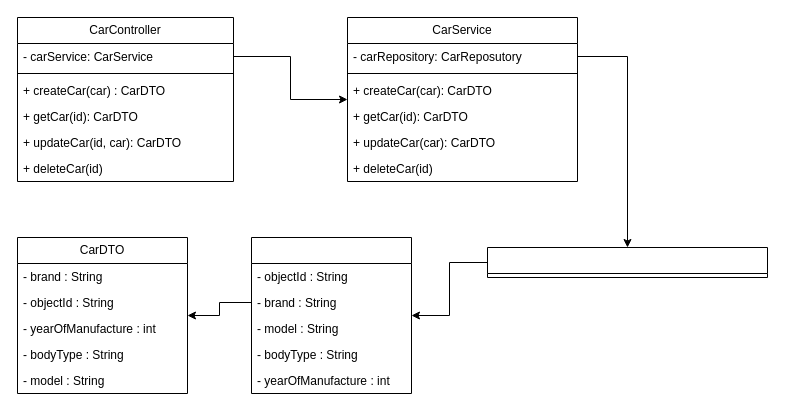
This 785x414 diagram has some shape labels left out. Each missing label, with the box of its shape:
Car: (250, 236, 412, 394)
CarRepository : JPARepository<Car, String>: (486, 246, 768, 278)
